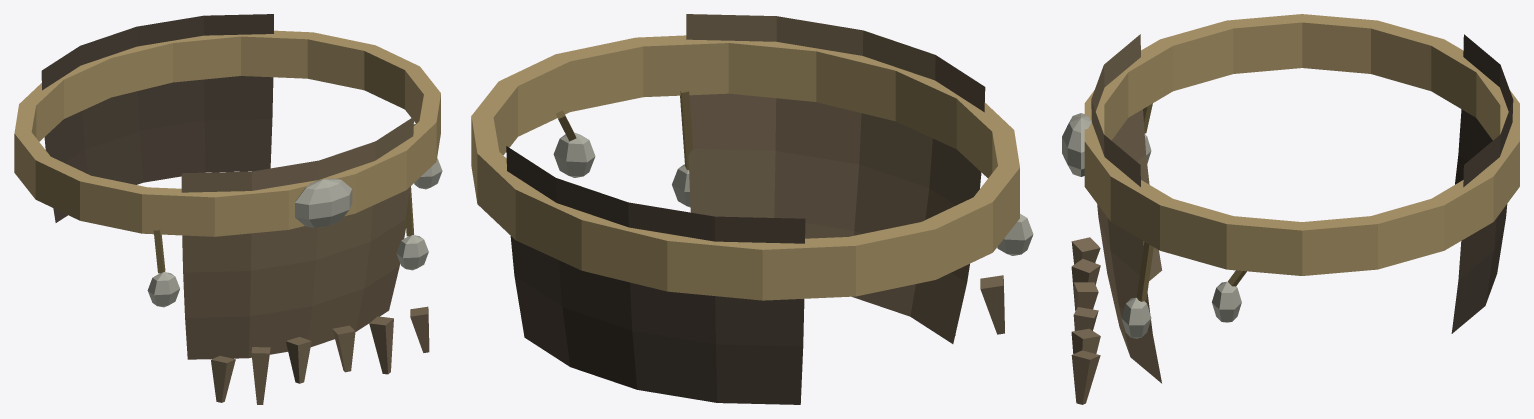
The model's file is old_stackstone_kilt.glb.
The picture shows the model from 3 angles, left to right: view 1: azimuth 30°, elevation 25°; view 2: azimuth 150°, elevation 25°; view 3: azimuth 270°, elevation 25°; orthographic projection. The views are drawn at different scales.
Parts seen in each view (by area): view 1: old_stackstone_kilt; view 2: old_stackstone_kilt; view 3: old_stackstone_kilt.
Part boxes in pixels (left/top/right/bottom): old_stackstone_kilt: left=14, top=14, right=442, bottom=404; old_stackstone_kilt: left=471, top=14, right=1033, bottom=404; old_stackstone_kilt: left=1062, top=14, right=1519, bottom=404.
Size of the model in its own units: 1.02 by 0.5708 by 0.9114.
